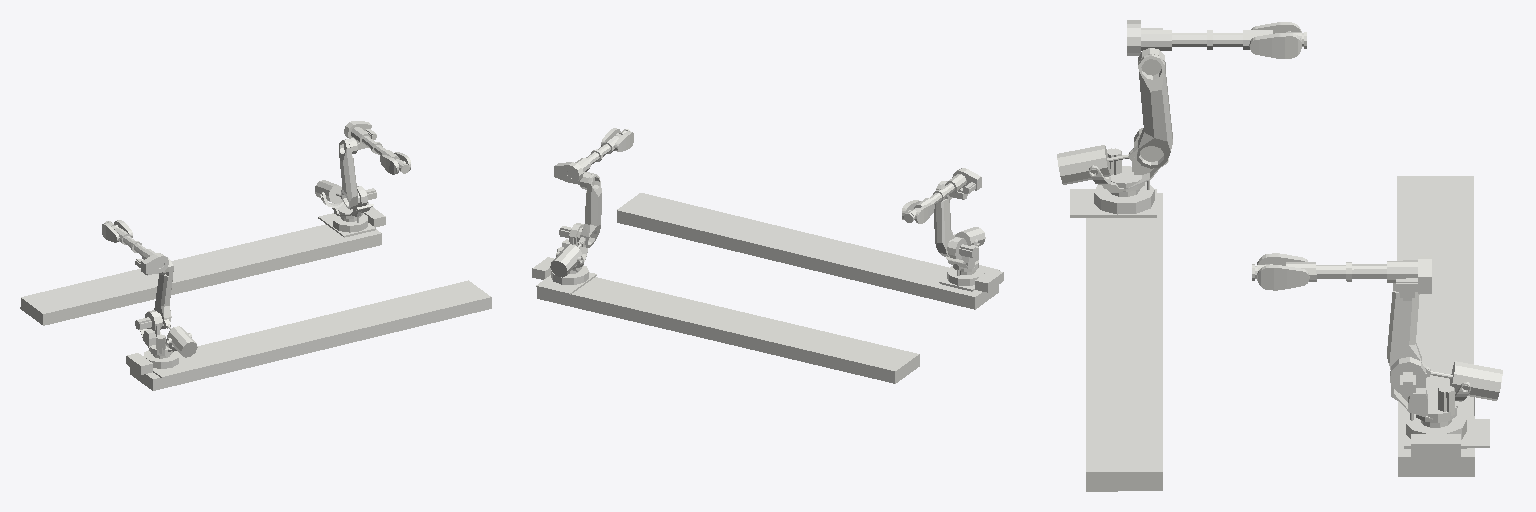
--- Facts derived from the render (not from the file) ---
The picture shows the robot from 3 angles, left to right: view 1: azimuth 30°, elevation 25°; view 2: azimuth 150°, elevation 25°; view 3: azimuth 270°, elevation 25°; orthographic projection.
Robot: aurora_iris — 29 links, 28 joints (14 revolute, 4 prismatic, 10 fixed); root link world; default pose: every joint at zero.
Links seen in each view (by area): view 1: rob1_axis, rob2_axis, rob1_base_link, rob2_base_link, rob1_link_1, rob2_link_2, rob2_link_1, rob1_link_2, rob1_link_4, rob2_link_4, rob2_link_3, rob1_link_3 (+1 smaller); view 2: rob1_axis, rob2_axis, rob2_base_link, rob1_base_link, rob2_link_2, rob1_link_1, rob1_link_2, rob2_link_4, rob1_link_3, rob1_link_4, rob2_link_3, rob2_cylinder (+1 smaller); view 3: rob1_axis, rob2_axis, rob1_link_2, rob2_base_link, rob2_link_1, rob2_link_4, rob1_link_4, rob1_base_link, rob2_link_2, rob1_link_1, rob1_link_3, rob2_link_3 (+2 smaller).
Link boxes in pixels (box(x1,y1,x2,y2)): rob1_axis: box(130, 280, 491, 390); rob2_axis: box(20, 224, 381, 325); rob1_base_link: box(126, 350, 193, 377); rob2_base_link: box(318, 207, 385, 237); rob1_link_1: box(135, 310, 191, 355); rob2_link_2: box(339, 140, 357, 209); rob2_link_1: box(320, 186, 376, 222); rob1_link_2: box(154, 257, 173, 328); rob1_link_4: box(102, 220, 163, 267); rob2_link_4: box(362, 136, 410, 174); rob2_link_3: box(344, 121, 376, 153); rob1_link_3: box(135, 249, 169, 275); rob1_axis: box(617, 193, 998, 309); rob2_axis: box(537, 277, 919, 383); rob2_base_link: box(532, 257, 596, 294); rob1_base_link: box(939, 265, 1003, 292); rob2_link_2: box(578, 174, 601, 247); rob1_link_1: box(946, 234, 979, 275); rob1_link_2: box(934, 181, 954, 256); rob2_link_4: box(567, 128, 633, 177); rob1_link_3: box(940, 168, 981, 199); rob1_link_4: box(902, 183, 954, 223); rob2_link_3: box(554, 158, 594, 189); rob2_cylinder: box(550, 244, 582, 277); rob1_axis: box(1086, 193, 1162, 491); rob2_axis: box(1397, 176, 1474, 476); rob1_link_2: box(1129, 54, 1172, 168); rob2_base_link: box(1404, 412, 1489, 457); rob2_link_1: box(1390, 357, 1470, 422); rob2_link_4: box(1257, 253, 1386, 290); rob1_link_4: box(1172, 22, 1301, 58); rob1_base_link: box(1070, 182, 1156, 217); rob2_link_2: box(1387, 283, 1430, 377); rob1_link_1: box(1089, 128, 1168, 192); rob1_link_3: box(1127, 20, 1171, 75); rob2_link_3: box(1387, 255, 1431, 300).
Bounding box of the posed robot: 7.99 × 5.15 × 2.6 m (x, y, z).
20 mesh visuals loaded from 11 distinct referenced files (10 binary STL); not drawn: 2 (reference not matched to a file when rendering).

URDF robot description (aurora_iris):
<?xml version="1.0" ?>
<!-- =================================================================================== -->
<!-- |    This document was autogenerated by xacro from /root/catkin_ws/src/abb_irbt6004_670_tworobots_moveit_config/urdf/abb_irb6700_175_305_ibois_tworobots.xacro | -->
<!-- |    EDITING THIS FILE BY HAND IS NOT RECOMMENDED                                 | -->
<!-- =================================================================================== -->
<robot name="aurora_iris">
    <link name="world" />
    <joint name="world_joint1" type="fixed">
        <parent link="world" />
        <child link="rob1_axis" />
        <origin rpy="0.0006690539774448019 0.000669029972214783 0.00003588000859488913" xyz="0.0 0.0 0.0" />
        <!--translation of the track-->
    </joint>
    <!-- Conversion were obtained from http://www.e-paint.co.uk/Lab_values.asp
       unless otherwise stated. -->
    <link name="rob1_axis">
        <inertial>
            <mass value="120" />
            <inertia ixx="-4.98000" ixy="-0.00000" ixz="2.70000" iyy="-5.95200" iyz="-0.00000" izz="0.82800" />
            <origin xyz="0 0 0" rpy="0 0 0" />
        </inertial>
        <visual>
            <origin xyz="3.35 0.0 0.0" />
            <!--if x is zero the robot origin is at the center-->
            <geometry>
                <mesh filename="package://abb_irbt6004_670_tworobots_moveit_config/meshes/abb_irbt6004_670/visual/axis.stl" />
            </geometry>
            <material name="">
                <color rgba="0.9254902 0.9254902 0.9058824 1" />
            </material>
        </visual>
        <collision>
            <origin xyz="3.35 0.0 0.0" />
            <!--if x is zero the robot origin is at the center-->
            <geometry>
                <mesh filename="package://abb_irbt6004_670_tworobots_moveit_config/meshes/abb_irbt6004_670/collision/axis.stl" />
            </geometry>
        </collision>
    </link>
    <joint name="rob1_linear_axis_joint" type="prismatic">
        <parent link="rob1_axis" />
        <child link="rob1_pedestal" />
        <origin rpy="0 0 0 " xyz="0 0 0.05" />
        <!--track origin or translation from origin-->
        <axis xyz="1 0 0" />
        <limit effort="100000" lower="0" upper="6.7" velocity="2.618" />
        <!--track limits or length-->
        <dynamics damping="0.2" friction="0" />
    </joint>
    <link name="rob1_pedestal">
        <inertial>
            <origin xyz="0.0 0.0 0.0" rpy="0 0 0" />
            <mass value="120.00000" />
            <inertia ixx="-4.98000" ixy="-0.00000" ixz="2.70000" iyy="-5.95200" iyz="-0.00000" izz="0.82800" />
        </inertial>
        <visual>
            <geometry>
                <mesh filename="package://abb_irbt6004_670_tworobots_moveit_config/meshes/abb_irbt6004_670/visual/pedestal_250.stl" />
            </geometry>
            <material name="">
                <color rgba="0.9254902 0.9254902 0.9058824 1" />
            </material>
        </visual>
        <collision>
            <geometry>
                <mesh filename="package://abb_irbt6004_670_tworobots_moveit_config/meshes/abb_irbt6004_670/collision/pedestal_250.stl" />
            </geometry>
        </collision>
    </link>
    <joint name="rob1_abb_joint" type="fixed">
        <parent link="rob1_pedestal" />
        <child link="rob1_base_link" />
        <origin rpy="0 0 1.57079632679 " xyz="0 0 0 " />
        <!--rotation of robot pedestal-->
        <dynamics damping="0.2" friction="0" />
    </joint>
    <!-- Conversion were obtained from http://www.e-paint.co.uk/Lab_values.asp
       unless otherwise stated. -->
    <!-- link list -->
    <link name="rob1_base_link">
        <visual>
            <origin rpy="0 0 0" xyz="0 0 0" />
            <geometry>
                <mesh filename="package://abb_irb6700_support/meshes/irb6700/visual/base_link.stl" />
            </geometry>
            <material name="">
                <color rgba="0.9254902 0.9254902 0.9058824 1" />
            </material>
        </visual>
        <collision>
            <origin rpy="0 0 0" xyz="0 0 0" />
            <geometry>
                <mesh filename="package://abb_irb6700_support/meshes/irb6700/collision/base_link.stl" />
            </geometry>
            <material name="">
                <color rgba="1 1 0 1" />
            </material>
        </collision>
        <inertial>
            <mass value="0.1" />
            <origin xyz="0 0 0" rpy="0 0 0" />
            <inertia ixx="0.03" iyy="0.03" izz="0.03" ixy="0.0" ixz="0.0" iyz="0.0" />
        </inertial>
    </link>
    <link name="rob1_link_1">
        <visual>
            <origin rpy="0 0 0" xyz="0 0 0" />
            <geometry>
                <mesh filename="package://abb_irb6700_support/meshes/irb6700/visual/link_1.stl" />
            </geometry>
            <material name="">
                <color rgba="0.9254902 0.9254902 0.9058824 1" />
            </material>
        </visual>
        <collision>
            <origin rpy="0 0 0" xyz="0 0 0" />
            <geometry>
                <mesh filename="package://abb_irb6700_support/meshes/irb6700/collision/link_1.stl" />
            </geometry>
            <material name="">
                <color rgba="1 1 0 1" />
            </material>
        </collision>
        <inertial>
            <mass value="0.1" />
            <origin xyz="0 0 0" rpy="0 0 0" />
            <inertia ixx="0.03" iyy="0.03" izz="0.03" ixy="0.0" ixz="0.0" iyz="0.0" />
        </inertial>
    </link>
    <link name="rob1_cylinder">
        <visual>
            <origin rpy="0 0 0" xyz="0 0 0" />
            <geometry>
                <mesh filename="package://abb_irb6700_support/meshes/irb6700/visual/cylinder.stl" />
            </geometry>
            <material name="">
                <color rgba="0.9254902 0.9254902 0.9058824 1" />
            </material>
        </visual>
        <collision>
            <origin rpy="0 0 0" xyz="0 0 0" />
            <geometry>
                <mesh filename="package://abb_irb6700_support/meshes/irb6700/collision/cylinder.stl" />
            </geometry>
            <material name="">
                <color rgba="1 1 0 1" />
            </material>
        </collision>
        <inertial>
            <mass value="0.1" />
            <origin xyz="0 0 0" rpy="0 0 0" />
            <inertia ixx="0.03" iyy="0.03" izz="0.03" ixy="0.0" ixz="0.0" iyz="0.0" />
        </inertial>
    </link>
    <link name="rob1_piston">
        <visual>
            <origin rpy="0 0 0" xyz="0 0 0" />
            <geometry>
                <mesh filename="package://abb_irb6700_support/meshes/irb6700/visual/piston.stl" />
            </geometry>
            <material name="">
                <color rgba="0.9254902 0.9254902 0.9058824 1" />
            </material>
        </visual>
        <collision>
            <origin rpy="0 0 0" xyz="0 0 0" />
            <geometry>
                <mesh filename="package://abb_irb6700_support/meshes/irb6700/collision/piston.stl" />
            </geometry>
            <material name="">
                <color rgba="1 1 0 1" />
            </material>
        </collision>
        <inertial>
            <mass value="0.1" />
            <origin xyz="0 0 0" rpy="0 0 0" />
            <inertia ixx="0.03" iyy="0.03" izz="0.03" ixy="0.0" ixz="0.0" iyz="0.0" />
        </inertial>
    </link>
    <link name="rob1_link_2">
        <visual>
            <origin rpy="0 0 0" xyz="0 0 0" />
            <geometry>
                <mesh filename="package://abb_irb6700_support/meshes/irb6700_175_305/visual/link_2.stl" />
            </geometry>
            <material name="">
                <color rgba="0.9254902 0.9254902 0.9058824 1" />
            </material>
        </visual>
        <collision>
            <origin rpy="0 0 0" xyz="0 0 0" />
            <geometry>
                <mesh filename="package://abb_irb6700_support/meshes/irb6700_175_305/collision/link_2.stl" />
            </geometry>
            <material name="">
                <color rgba="1 1 0 1" />
            </material>
        </collision>
        <inertial>
            <mass value="0.1" />
            <origin xyz="0 0 0" rpy="0 0 0" />
            <inertia ixx="0.03" iyy="0.03" izz="0.03" ixy="0.0" ixz="0.0" iyz="0.0" />
        </inertial>
    </link>
    <link name="rob1_link_3">
        <visual>
            <origin rpy="0 0 0" xyz="0 0 0" />
            <geometry>
                <mesh filename="package://abb_irb6700_support/meshes/irb6700_175_305/visual/link_3.stl" />
            </geometry>
            <material name="">
                <color rgba="0.9254902 0.9254902 0.9058824 1" />
            </material>
        </visual>
        <collision>
            <origin rpy="0 0 0" xyz="0 0 0" />
            <geometry>
                <mesh filename="package://abb_irb6700_support/meshes/irb6700_175_305/collision/link_3.stl" />
            </geometry>
            <material name="">
                <color rgba="1 1 0 1" />
            </material>
        </collision>
        <inertial>
            <mass value="0.1" />
            <origin xyz="0 0 0" rpy="0 0 0" />
            <inertia ixx="0.03" iyy="0.03" izz="0.03" ixy="0.0" ixz="0.0" iyz="0.0" />
        </inertial>
    </link>
    <link name="rob1_link_4">
        <visual>
            <origin rpy="0 0 0" xyz="0 0 0" />
            <geometry>
                <mesh filename="package://abb_irb6700_support/meshes/irb6700_175_305/visual/link_4.stl" />
            </geometry>
            <material name="">
                <color rgba="0.9254902 0.9254902 0.9058824 1" />
            </material>
        </visual>
        <collision>
            <origin rpy="0 0 0" xyz="0 0 0" />
            <geometry>
                <mesh filename="package://abb_irb6700_support/meshes/irb6700_175_305/collision/link_4.stl" />
            </geometry>
            <material name="">
                <color rgba="1 1 0 1" />
            </material>
        </collision>
        <inertial>
            <mass value="0.1" />
            <origin xyz="0 0 0" rpy="0 0 0" />
            <inertia ixx="0.03" iyy="0.03" izz="0.03" ixy="0.0" ixz="0.0" iyz="0.0" />
        </inertial>
    </link>
    <link name="rob1_link_5">
        <visual>
            <origin rpy="0 0 0" xyz="0 0 0" />
            <geometry>
                <mesh filename="package://abb_irb6700_support/meshes/irb6700/visual/link_5.stl" />
            </geometry>
            <material name="">
                <color rgba="0.9254902 0.9254902 0.9058824 1" />
            </material>
        </visual>
        <collision>
            <origin rpy="0 0 0" xyz="0 0 0" />
            <geometry>
                <mesh filename="package://abb_irb6700_support/meshes/irb6700/collision/link_5.stl" />
            </geometry>
            <material name="">
                <color rgba="1 1 0 1" />
            </material>
        </collision>
        <inertial>
            <mass value="0.1" />
            <origin xyz="0 0 0" rpy="0 0 0" />
            <inertia ixx="0.03" iyy="0.03" izz="0.03" ixy="0.0" ixz="0.0" iyz="0.0" />
        </inertial>
    </link>
    <link name="rob1_link_6">
        <visual>
            <origin rpy="0 0 0" xyz="0 0 0" />
            <geometry>
                <mesh filename="package://abb_irb6700_support/meshes/irb6700/visual/link_6.stl" />
            </geometry>
            <material name="">
                <color rgba="0.9254902 0.9254902 0.9058824 1" />
            </material>
        </visual>
        <collision>
            <origin rpy="0 0 0" xyz="0 0 0" />
            <geometry>
                <mesh filename="package://abb_irb6700_support/meshes/irb6700/collision/link_6.stl" />
            </geometry>
            <material name="">
                <color rgba="1 1 0 1" />
            </material>
        </collision>
        <inertial>
            <mass value="0.1" />
            <origin xyz="0 0 0" rpy="0 0 0" />
            <inertia ixx="0.03" iyy="0.03" izz="0.03" ixy="0.0" ixz="0.0" iyz="0.0" />
        </inertial>
    </link>
    <joint name="rob1_joint_1" type="revolute">
        <origin rpy="0 0 0" xyz="0 0 0.78" />
        <parent link="rob1_base_link" />
        <child link="rob1_link_1" />
        <axis xyz="0 0 1" />
        <limit effort="0" lower="-2.9670597283903604" upper="2.9670597283903604" velocity="1.9198621771937625" />
    </joint>
    <joint name="rob1_joint_2" type="revolute">
        <origin rpy="0 0 0" xyz="0.32 0 0" />
        <parent link="rob1_link_1" />
        <child link="rob1_link_2" />
        <axis xyz="0 1 0" />
        <limit effort="0" lower="-1.1344640137963142" upper="1.4835298641951802" velocity="1.9198621771937625" />
    </joint>
    <joint name="rob1_joint_3" type="revolute">
        <origin rpy="0 0 0" xyz="0 0 1.135" />
        <parent link="rob1_link_2" />
        <child link="rob1_link_3" />
        <axis xyz="0 1 0" />
        <limit effort="0" lower="-3.141592653589793" upper="1.2217304763960306" velocity="1.9198621771937625" />
    </joint>
    <joint name="rob1_joint_4" type="revolute">
        <origin rpy="0 0 0" xyz="0 0 0.2" />
        <parent link="rob1_link_3" />
        <child link="rob1_link_4" />
        <axis xyz="1 0 0" />
        <limit effort="0" lower="-5.235987755982989" upper="5.235987755982989" velocity="3.3161255787892263" />
    </joint>
    <joint name="rob1_joint_5" type="revolute">
        <origin rpy="0 0 0" xyz="1.593 0 0" />
        <parent link="rob1_link_4" />
        <child link="rob1_link_5" />
        <axis xyz="0 1 0" />
        <limit effort="0" lower="-2.2689280275926285" upper="2.2689280275926285" velocity="2.6179938779914944" />
    </joint>
    <joint name="rob1_joint_6" type="revolute">
        <origin rpy="0 0 0" xyz="0.2 0 0" />
        <parent link="rob1_link_5" />
        <child link="rob1_link_6" />
        <axis xyz="1 0 0" />
        <limit effort="0" lower="-6.283185307179586" upper="6.283185307179586" velocity="3.6651914291880923" />
    </joint>
    <joint name="rob1_cylinder_joint" type="revolute">
        <origin rpy="0 0 0" xyz="-0.349 -0.194 -0.142" />
        <parent link="rob1_link_1" />
        <child link="rob1_cylinder" />
        <axis xyz="0 1 0" />
        <mimic joint="rob1_joint_2" multiplier="-0.25" />
        <limit effort="0" lower="-0.28361600344907856" upper="0.37088246604879505" velocity="100" />
    </joint>
    <joint name="rob1_piston_joint" type="prismatic">
        <origin rpy="0.20897 0 -1.5707963267948966" xyz="0 0 0" />
        <parent link="rob1_cylinder" />
        <child link="rob1_piston" />
        <axis xyz="0 1 0" />
        <mimic joint="rob1_joint_2" multiplier="0.15" />
        <limit effort="0" lower="-0.25" upper="0.25" velocity="100" />
    </joint>
    <!-- ROS-Industrial 'base' frame: base_link to ABB World Coordinates transform -->
    <link name="rob1_base" />
    <joint name="rob1_base_link-base" type="fixed">
        <origin rpy="0 0 0" xyz="0 0 0" />
        <parent link="rob1_base_link" />
        <child link="rob1_base" />
    </joint>
    <!-- ROS-Industrial 'flange' frame: attachment point for EEF models -->
    <link name="rob1_flange" />
    <joint name="rob1_joint_6-flange" type="fixed">
        <origin rpy="0 0 0" xyz="0 0 0" />
        <parent link="rob1_link_6" />
        <child link="rob1_flange" />
    </joint>
    <!-- ROS-Industrial 'tool0' frame: all-zeros tool frame -->
    <link name="rob1_tool0" />
    <joint name="rob1_link_6-tool0" type="fixed">
        <origin rpy="0 1.5707963267948966 0" xyz="0 0 0" />
        <parent link="rob1_flange" />
        <child link="rob1_tool0" />
    </joint>
    <!--for multiple robots-->
    <!--robot with different base rotation-->
    <joint name="world_joint2" type="fixed">
        <parent link="world" />
        <child link="rob2_axis" />
        <origin rpy="-0.0071789973774038915 -0.005247652228420866 -3.1404366692360592" xyz="6.3145407114902 3.6055713818138 0.0019451920794" />
        <!--translation of the track-->
    </joint>
    <!-- Conversion were obtained from http://www.e-paint.co.uk/Lab_values.asp
       unless otherwise stated. -->
    <link name="rob2_axis">
        <inertial>
            <mass value="120" />
            <inertia ixx="-4.98000" ixy="-0.00000" ixz="2.70000" iyy="-5.95200" iyz="-0.00000" izz="0.82800" />
            <origin xyz="0 0 0" rpy="0 0 0" />
        </inertial>
        <visual>
            <origin xyz="3.35 0.0 0.0" />
            <!--if x is zero the robot origin is at the center-->
            <geometry>
                <mesh filename="package://abb_irbt6004_670_tworobots_moveit_config/meshes/abb_irbt6004_670/visual/axis.stl" />
            </geometry>
            <material name="">
                <color rgba="0.9254902 0.9254902 0.9058824 1" />
            </material>
        </visual>
        <collision>
            <origin xyz="3.35 0.0 0.0" />
            <!--if x is zero the robot origin is at the center-->
            <geometry>
                <mesh filename="package://abb_irbt6004_670_tworobots_moveit_config/meshes/abb_irbt6004_670/collision/axis.stl" />
            </geometry>
        </collision>
    </link>
    <joint name="rob2_linear_axis_joint" type="prismatic">
        <parent link="rob2_axis" />
        <child link="rob2_pedestal" />
        <origin rpy="0 0 0 " xyz="0 0 0.05" />
        <!--track origin or translation from origin-->
        <axis xyz="1 0 0" />
        <limit effort="100000" lower="0" upper="6.7" velocity="2.618" />
        <!--track limits or length-->
        <dynamics damping="0.2" friction="0" />
    </joint>
    <link name="rob2_pedestal">
        <inertial>
            <origin xyz="0.0 0.0 0.0" rpy="0 0 0" />
            <mass value="120.00000" />
            <inertia ixx="-4.98000" ixy="-0.00000" ixz="2.70000" iyy="-5.95200" iyz="-0.00000" izz="0.82800" />
        </inertial>
        <visual>
            <geometry>
                <mesh filename="package://abb_irbt6004_670_tworobots_moveit_config/meshes/abb_irbt6004_670/visual/pedestal_250.stl" />
            </geometry>
            <material name="">
                <color rgba="0.9254902 0.9254902 0.9058824 1" />
            </material>
        </visual>
        <collision>
            <geometry>
                <mesh filename="package://abb_irbt6004_670_tworobots_moveit_config/meshes/abb_irbt6004_670/collision/pedestal_250.stl" />
            </geometry>
        </collision>
    </link>
    <joint name="rob2_abb_joint" type="fixed">
        <parent link="rob2_pedestal" />
        <child link="rob2_base_link" />
        <origin rpy="0 0 1.57079632679 " xyz="0 0 0 " />
        <!--rotation of robot pedestal 1.57079632679 3.14159265358979323846-->
        <dynamics damping="0.2" friction="0" />
    </joint>
    <!-- Conversion were obtained from http://www.e-paint.co.uk/Lab_values.asp
       unless otherwise stated. -->
    <!-- link list -->
    <link name="rob2_base_link">
        <visual>
            <origin rpy="0 0 0" xyz="0 0 0" />
            <geometry>
                <mesh filename="package://abb_irb6700_support/meshes/irb6700/visual/base_link.stl" />
            </geometry>
            <material name="">
                <color rgba="0.9254902 0.9254902 0.9058824 1" />
            </material>
        </visual>
        <collision>
            <origin rpy="0 0 0" xyz="0 0 0" />
            <geometry>
                <mesh filename="package://abb_irb6700_support/meshes/irb6700/collision/base_link.stl" />
            </geometry>
            <material name="">
                <color rgba="1 1 0 1" />
            </material>
        </collision>
        <inertial>
            <mass value="0.1" />
            <origin xyz="0 0 0" rpy="0 0 0" />
            <inertia ixx="0.03" iyy="0.03" izz="0.03" ixy="0.0" ixz="0.0" iyz="0.0" />
        </inertial>
    </link>
    <link name="rob2_link_1">
        <visual>
            <origin rpy="0 0 0" xyz="0 0 0" />
            <geometry>
                <mesh filename="package://abb_irb6700_support/meshes/irb6700/visual/link_1.stl" />
            </geometry>
            <material name="">
                <color rgba="0.9254902 0.9254902 0.9058824 1" />
            </material>
        </visual>
        <collision>
            <origin rpy="0 0 0" xyz="0 0 0" />
            <geometry>
                <mesh filename="package://abb_irb6700_support/meshes/irb6700/collision/link_1.stl" />
            </geometry>
            <material name="">
                <color rgba="1 1 0 1" />
            </material>
        </collision>
        <inertial>
            <mass value="0.1" />
            <origin xyz="0 0 0" rpy="0 0 0" />
            <inertia ixx="0.03" iyy="0.03" izz="0.03" ixy="0.0" ixz="0.0" iyz="0.0" />
        </inertial>
    </link>
    <link name="rob2_cylinder">
        <visual>
            <origin rpy="0 0 0" xyz="0 0 0" />
            <geometry>
                <mesh filename="package://abb_irb6700_support/meshes/irb6700/visual/cylinder.stl" />
            </geometry>
            <material name="">
                <color rgba="0.9254902 0.9254902 0.9058824 1" />
            </material>
        </visual>
        <collision>
            <origin rpy="0 0 0" xyz="0 0 0" />
            <geometry>
                <mesh filename="package://abb_irb6700_support/meshes/irb6700/collision/cylinder.stl" />
            </geometry>
            <material name="">
                <color rgba="1 1 0 1" />
            </material>
        </collision>
        <inertial>
            <mass value="0.1" />
            <origin xyz="0 0 0" rpy="0 0 0" />
            <inertia ixx="0.03" iyy="0.03" izz="0.03" ixy="0.0" ixz="0.0" iyz="0.0" />
        </inertial>
    </link>
    <link name="rob2_piston">
        <visual>
            <origin rpy="0 0 0" xyz="0 0 0" />
            <geometry>
                <mesh filename="package://abb_irb6700_support/meshes/irb6700/visual/piston.stl" />
            </geometry>
            <material name="">
                <color rgba="0.9254902 0.9254902 0.9058824 1" />
            </material>
        </visual>
        <collision>
            <origin rpy="0 0 0" xyz="0 0 0" />
            <geometry>
                <mesh filename="package://abb_irb6700_support/meshes/irb6700/collision/piston.stl" />
            </geometry>
            <material name="">
                <color rgba="1 1 0 1" />
            </material>
        </collision>
        <inertial>
            <mass value="0.1" />
            <origin xyz="0 0 0" rpy="0 0 0" />
            <inertia ixx="0.03" iyy="0.03" izz="0.03" ixy="0.0" ixz="0.0" iyz="0.0" />
        </inertial>
    </link>
    <link name="rob2_link_2">
        <visual>
            <origin rpy="0 0 0" xyz="0 0 0" />
            <geometry>
                <mesh filename="package://abb_irb6700_support/meshes/irb6700_175_305/visual/link_2.stl" />
            </geometry>
            <material name="">
                <color rgba="0.9254902 0.9254902 0.9058824 1" />
            </material>
        </visual>
        <collision>
            <origin rpy="0 0 0" xyz="0 0 0" />
            <geometry>
                <mesh filename="package://abb_irb6700_support/meshes/irb6700_175_305/collision/link_2.stl" />
            </geometry>
            <material name="">
                <color rgba="1 1 0 1" />
            </material>
        </collision>
        <inertial>
            <mass value="0.1" />
            <origin xyz="0 0 0" rpy="0 0 0" />
            <inertia ixx="0.03" iyy="0.03" izz="0.03" ixy="0.0" ixz="0.0" iyz="0.0" />
        </inertial>
    </link>
    <link name="rob2_link_3">
        <visual>
            <origin rpy="0 0 0" xyz="0 0 0" />
            <geometry>
                <mesh filename="package://abb_irb6700_support/meshes/irb6700_175_305/visual/link_3.stl" />
            </geometry>
            <material name="">
                <color rgba="0.9254902 0.9254902 0.9058824 1" />
            </material>
        </visual>
        <collision>
            <origin rpy="0 0 0" xyz="0 0 0" />
            <geometry>
                <mesh filename="package://abb_irb6700_support/meshes/irb6700_175_305/collision/link_3.stl" />
            </geometry>
            <material name="">
                <color rgba="1 1 0 1" />
            </material>
        </collision>
        <inertial>
            <mass value="0.1" />
            <origin xyz="0 0 0" rpy="0 0 0" />
            <inertia ixx="0.03" iyy="0.03" izz="0.03" ixy="0.0" ixz="0.0" iyz="0.0" />
        </inertial>
    </link>
    <link name="rob2_link_4">
        <visual>
            <origin rpy="0 0 0" xyz="0 0 0" />
            <geometry>
                <mesh filename="package://abb_irb6700_support/meshes/irb6700_175_305/visual/link_4.stl" />
            </geometry>
            <material name="">
                <color rgba="0.9254902 0.9254902 0.9058824 1" />
            </material>
        </visual>
        <collision>
            <origin rpy="0 0 0" xyz="0 0 0" />
            <geometry>
                <mesh filename="package://abb_irb6700_support/meshes/irb6700_175_305/collision/link_4.stl" />
            </geometry>
            <material name="">
                <color rgba="1 1 0 1" />
            </material>
        </collision>
        <inertial>
            <mass value="0.1" />
            <origin xyz="0 0 0" rpy="0 0 0" />
            <inertia ixx="0.03" iyy="0.03" izz="0.03" ixy="0.0" ixz="0.0" iyz="0.0" />
        </inertial>
    </link>
    <link name="rob2_link_5">
        <visual>
            <origin rpy="0 0 0" xyz="0 0 0" />
            <geometry>
                <mesh filename="package://abb_irb6700_support/meshes/irb6700/visual/link_5.stl" />
            </geometry>
            <material name="">
                <color rgba="0.9254902 0.9254902 0.9058824 1" />
            </material>
        </visual>
        <collision>
            <origin rpy="0 0 0" xyz="0 0 0" />
            <geometry>
                <mesh filename="package://abb_irb6700_support/meshes/irb6700/collision/link_5.stl" />
            </geometry>
            <material name="">
                <color rgba="1 1 0 1" />
            </material>
        </collision>
        <inertial>
            <mass value="0.1" />
            <origin xyz="0 0 0" rpy="0 0 0" />
            <inertia ixx="0.03" iyy="0.03" izz="0.03" ixy="0.0" ixz="0.0" iyz="0.0" />
        </inertial>
    </link>
    <link name="rob2_link_6">
        <visual>
            <origin rpy="0 0 0" xyz="0 0 0" />
            <geometry>
                <mesh filename="package://abb_irb6700_support/meshes/irb6700/visual/link_6.stl" />
            </geometry>
            <material name="">
                <color rgba="0.9254902 0.9254902 0.9058824 1" />
            </material>
        </visual>
        <collision>
            <origin rpy="0 0 0" xyz="0 0 0" />
            <geometry>
                <mesh filename="package://abb_irb6700_support/meshes/irb6700/collision/link_6.stl" />
            </geometry>
            <material name="">
                <color rgba="1 1 0 1" />
            </material>
        </collision>
        <inertial>
            <mass value="0.1" />
            <origin xyz="0 0 0" rpy="0 0 0" />
            <inertia ixx="0.03" iyy="0.03" izz="0.03" ixy="0.0" ixz="0.0" iyz="0.0" />
        </inertial>
    </link>
    <joint name="rob2_joint_1" type="revolute">
        <origin rpy="0 0 0" xyz="0 0 0.78" />
        <parent link="rob2_base_link" />
        <child link="rob2_link_1" />
        <axis xyz="0 0 1" />
        <limit effort="0" lower="-2.9670597283903604" upper="2.9670597283903604" velocity="1.9198621771937625" />
    </joint>
    <joint name="rob2_joint_2" type="revolute">
        <origin rpy="0 0 0" xyz="0.32 0 0" />
        <parent link="rob2_link_1" />
        <child link="rob2_link_2" />
        <axis xyz="0 1 0" />
        <limit effort="0" lower="-1.1344640137963142" upper="1.4835298641951802" velocity="1.9198621771937625" />
    </joint>
    <joint name="rob2_joint_3" type="revolute">
        <origin rpy="0 0 0" xyz="0 0 1.135" />
        <parent link="rob2_link_2" />
        <child link="rob2_link_3" />
        <axis xyz="0 1 0" />
        <limit effort="0" lower="-3.141592653589793" upper="1.2217304763960306" velocity="1.9198621771937625" />
    </joint>
    <joint name="rob2_joint_4" type="revolute">
        <origin rpy="0 0 0" xyz="0 0 0.2" />
        <parent link="rob2_link_3" />
        <child link="rob2_link_4" />
        <axis xyz="1 0 0" />
        <limit effort="0" lower="-5.235987755982989" upper="5.235987755982989" velocity="3.3161255787892263" />
    </joint>
    <joint name="rob2_joint_5" type="revolute">
        <origin rpy="0 0 0" xyz="1.593 0 0" />
        <parent link="rob2_link_4" />
        <child link="rob2_link_5" />
        <axis xyz="0 1 0" />
        <limit effort="0" lower="-2.2689280275926285" upper="2.2689280275926285" velocity="2.6179938779914944" />
    </joint>
    <joint name="rob2_joint_6" type="revolute">
        <origin rpy="0 0 0" xyz="0.2 0 0" />
        <parent link="rob2_link_5" />
        <child link="rob2_link_6" />
        <axis xyz="1 0 0" />
        <limit effort="0" lower="-6.283185307179586" upper="6.283185307179586" velocity="3.6651914291880923" />
    </joint>
    <joint name="rob2_cylinder_joint" type="revolute">
        <origin rpy="0 0 0" xyz="-0.349 -0.194 -0.142" />
        <parent link="rob2_link_1" />
        <child link="rob2_cylinder" />
        <axis xyz="0 1 0" />
        <mimic joint="rob2_joint_2" multiplier="-0.25" />
        <limit effort="0" lower="-0.28361600344907856" upper="0.37088246604879505" velocity="100" />
    </joint>
    <joint name="rob2_piston_joint" type="prismatic">
        <origin rpy="0.20897 0 -1.5707963267948966" xyz="0 0 0" />
        <parent link="rob2_cylinder" />
        <child link="rob2_piston" />
        <axis xyz="0 1 0" />
        <mimic joint="rob2_joint_2" multiplier="0.15" />
        <limit effort="0" lower="-0.25" upper="0.25" velocity="100" />
    </joint>
    <!-- ROS-Industrial 'base' frame: base_link to ABB World Coordinates transform -->
    <link name="rob2_base" />
    <joint name="rob2_base_link-base" type="fixed">
        <origin rpy="0 0 0" xyz="0 0 0" />
        <parent link="rob2_base_link" />
        <child link="rob2_base" />
    </joint>
    <!-- ROS-Industrial 'flange' frame: attachment point for EEF models -->
    <link name="rob2_flange" />
    <joint name="rob2_joint_6-flange" type="fixed">
        <origin rpy="0 0 0" xyz="0 0 0" />
        <parent link="rob2_link_6" />
        <child link="rob2_flange" />
    </joint>
    <!-- ROS-Industrial 'tool0' frame: all-zeros tool frame -->
    <link name="rob2_tool0" />
    <joint name="rob2_link_6-tool0" type="fixed">
        <origin rpy="0 1.5707963267948966 0" xyz="0 0 0" />
        <parent link="rob2_flange" />
        <child link="rob2_tool0" />
    </joint>
    <!--for multiple robots-->
    <!--robot with different base rotation-->
    <transmission name="trans_rob1_linear_axis_joint">
        <type>transmission_interface/SimpleTransmission</type>
        <joint name="rob1_linear_axis_joint">
            <hardwareInterface>hardware_interface/EffortJointInterface</hardwareInterface>
        </joint>
        <actuator name="rob1_linear_axis_joint_motor">
            <hardwareInterface>hardware_interface/EffortJointInterface</hardwareInterface>
            <mechanicalReduction>1</mechanicalReduction>
        </actuator>
    </transmission>
    <transmission name="trans_rob1_joint_1">
        <type>transmission_interface/SimpleTransmission</type>
        <joint name="rob1_joint_1">
            <hardwareInterface>hardware_interface/EffortJointInterface</hardwareInterface>
        </joint>
        <actuator name="rob1_joint_1_motor">
            <hardwareInterface>hardware_interface/EffortJointInterface</hardwareInterface>
            <mechanicalReduction>1</mechanicalReduction>
        </actuator>
    </transmission>
    <transmission name="trans_rob1_joint_2">
        <type>transmission_interface/SimpleTransmission</type>
        <joint name="rob1_joint_2">
            <hardwareInterface>hardware_interface/EffortJointInterface</hardwareInterface>
        </joint>
        <actuator name="rob1_joint_2_motor">
            <hardwareInterface>hardware_interface/EffortJointInterface</hardwareInterface>
            <mechanicalReduction>1</mechanicalReduction>
        </actuator>
    </transmission>
    <transmission name="trans_rob1_joint_3">
        <type>transmission_interface/SimpleTransmission</type>
        <joint name="rob1_joint_3">
            <hardwareInterface>hardware_interface/EffortJointInterface</hardwareInterface>
        </joint>
        <actuator name="rob1_joint_3_motor">
            <hardwareInterface>hardware_interface/EffortJointInterface</hardwareInterface>
            <mechanicalReduction>1</mechanicalReduction>
        </actuator>
    </transmission>
    <transmission name="trans_rob1_joint_4">
        <type>transmission_interface/SimpleTransmission</type>
        <joint name="rob1_joint_4">
            <hardwareInterface>hardware_interface/EffortJointInterface</hardwareInterface>
        </joint>
        <actuator name="rob1_joint_4_motor">
            <hardwareInterface>hardware_interface/EffortJointInterface</hardwareInterface>
            <mechanicalReduction>1</mechanicalReduction>
        </actuator>
    </transmission>
    <transmission name="trans_rob1_joint_5">
        <type>transmission_interface/SimpleTransmission</type>
        <joint name="rob1_joint_5">
            <hardwareInterface>hardware_interface/EffortJointInterface</hardwareInterface>
        </joint>
        <actuator name="rob1_joint_5_motor">
            <hardwareInterface>hardware_interface/EffortJointInterface</hardwareInterface>
            <mechanicalReduction>1</mechanicalReduction>
        </actuator>
    </transmission>
    <transmission name="trans_rob1_joint_6">
        <type>transmission_interface/SimpleTransmission</type>
        <joint name="rob1_joint_6">
            <hardwareInterface>hardware_interface/EffortJointInterface</hardwareInterface>
        </joint>
        <actuator name="rob1_joint_6_motor">
            <hardwareInterface>hardware_interface/EffortJointInterface</hardwareInterface>
            <mechanicalReduction>1</mechanicalReduction>
        </actuator>
    </transmission>
    <transmission name="trans_rob1_cylinder_joint">
        <type>transmission_interface/SimpleTransmission</type>
        <joint name="rob1_cylinder_joint">
            <hardwareInterface>hardware_interface/EffortJointInterface</hardwareInterface>
        </joint>
        <actuator name="rob1_cylinder_joint_motor">
            <hardwareInterface>hardware_interface/EffortJointInterface</hardwareInterface>
            <mechanicalReduction>1</mechanicalReduction>
        </actuator>
    </transmission>
    <transmission name="trans_rob1_piston_joint">
        <type>transmission_interface/SimpleTransmission</type>
        <joint name="rob1_piston_joint">
            <hardwareInterface>hardware_interface/EffortJointInterface</hardwareInterface>
        </joint>
        <actuator name="rob1_piston_joint_motor">
            <hardwareInterface>hardware_interface/EffortJointInterface</hardwareInterface>
            <mechanicalReduction>1</mechanicalReduction>
        </actuator>
    </transmission>
    <transmission name="trans_rob2_linear_axis_joint">
        <type>transmission_interface/SimpleTransmission</type>
        <joint name="rob2_linear_axis_joint">
            <hardwareInterface>hardware_interface/EffortJointInterface</hardwareInterface>
        </joint>
        <actuator name="rob2_linear_axis_joint_motor">
            <hardwareInterface>hardware_interface/EffortJointInterface</hardwareInterface>
            <mechanicalReduction>1</mechanicalReduction>
        </actuator>
    </transmission>
    <transmission name="trans_rob2_joint_1">
        <type>transmission_interface/SimpleTransmission</type>
        <joint name="rob2_joint_1">
            <hardwareInterface>hardware_interface/EffortJointInterface</hardwareInterface>
        </joint>
        <actuator name="rob2_joint_1_motor">
            <hardwareInterface>hardware_interface/EffortJointInterface</hardwareInterface>
            <mechanicalReduction>1</mechanicalReduction>
        </actuator>
    </transmission>
    <transmission name="trans_rob2_joint_2">
        <type>transmission_interface/SimpleTransmission</type>
        <joint name="rob2_joint_2">
            <hardwareInterface>hardware_interface/EffortJointInterface</hardwareInterface>
        </joint>
        <actuator name="rob2_joint_2_motor">
            <hardwareInterface>hardware_interface/EffortJointInterface</hardwareInterface>
            <mechanicalReduction>1</mechanicalReduction>
        </actuator>
    </transmission>
    <transmission name="trans_rob2_joint_3">
        <type>transmission_interface/SimpleTransmission</type>
        <joint name="rob2_joint_3">
            <hardwareInterface>hardware_interface/EffortJointInterface</hardwareInterface>
        </joint>
        <actuator name="rob2_joint_3_motor">
            <hardwareInterface>hardware_interface/EffortJointInterface</hardwareInterface>
            <mechanicalReduction>1</mechanicalReduction>
        </actuator>
    </transmission>
    <transmission name="trans_rob2_joint_4">
        <type>transmission_interface/SimpleTransmission</type>
        <joint name="rob2_joint_4">
            <hardwareInterface>hardware_interface/EffortJointInterface</hardwareInterface>
        </joint>
        <actuator name="rob2_joint_4_motor">
            <hardwareInterface>hardware_interface/EffortJointInterface</hardwareInterface>
            <mechanicalReduction>1</mechanicalReduction>
        </actuator>
    </transmission>
    <transmission name="trans_rob2_joint_5">
        <type>transmission_interface/SimpleTransmission</type>
        <joint name="rob2_joint_5">
            <hardwareInterface>hardware_interface/EffortJointInterface</hardwareInterface>
        </joint>
        <actuator name="rob2_joint_5_motor">
            <hardwareInterface>hardware_interface/EffortJointInterface</hardwareInterface>
            <mechanicalReduction>1</mechanicalReduction>
        </actuator>
    </transmission>
    <transmission name="trans_rob2_joint_6">
        <type>transmission_interface/SimpleTransmission</type>
        <joint name="rob2_joint_6">
            <hardwareInterface>hardware_interface/EffortJointInterface</hardwareInterface>
        </joint>
        <actuator name="rob2_joint_6_motor">
            <hardwareInterface>hardware_interface/EffortJointInterface</hardwareInterface>
            <mechanicalReduction>1</mechanicalReduction>
        </actuator>
    </transmission>
    <transmission name="trans_rob2_cylinder_joint">
        <type>transmission_interface/SimpleTransmission</type>
        <joint name="rob2_cylinder_joint">
            <hardwareInterface>hardware_interface/EffortJointInterface</hardwareInterface>
        </joint>
        <actuator name="rob2_cylinder_joint_motor">
            <hardwareInterface>hardware_interface/EffortJointInterface</hardwareInterface>
            <mechanicalReduction>1</mechanicalReduction>
        </actuator>
    </transmission>
    <transmission name="trans_rob2_piston_joint">
        <type>transmission_interface/SimpleTransmission</type>
        <joint name="rob2_piston_joint">
            <hardwareInterface>hardware_interface/EffortJointInterface</hardwareInterface>
        </joint>
        <actuator name="rob2_piston_joint_motor">
            <hardwareInterface>hardware_interface/EffortJointInterface</hardwareInterface>
            <mechanicalReduction>1</mechanicalReduction>
        </actuator>
    </transmission>
    <gazebo>
        <plugin name="gazebo_ros_control">
            <robotNamespace>/</robotNamespace>
        </plugin>
    </gazebo>
</robot>
